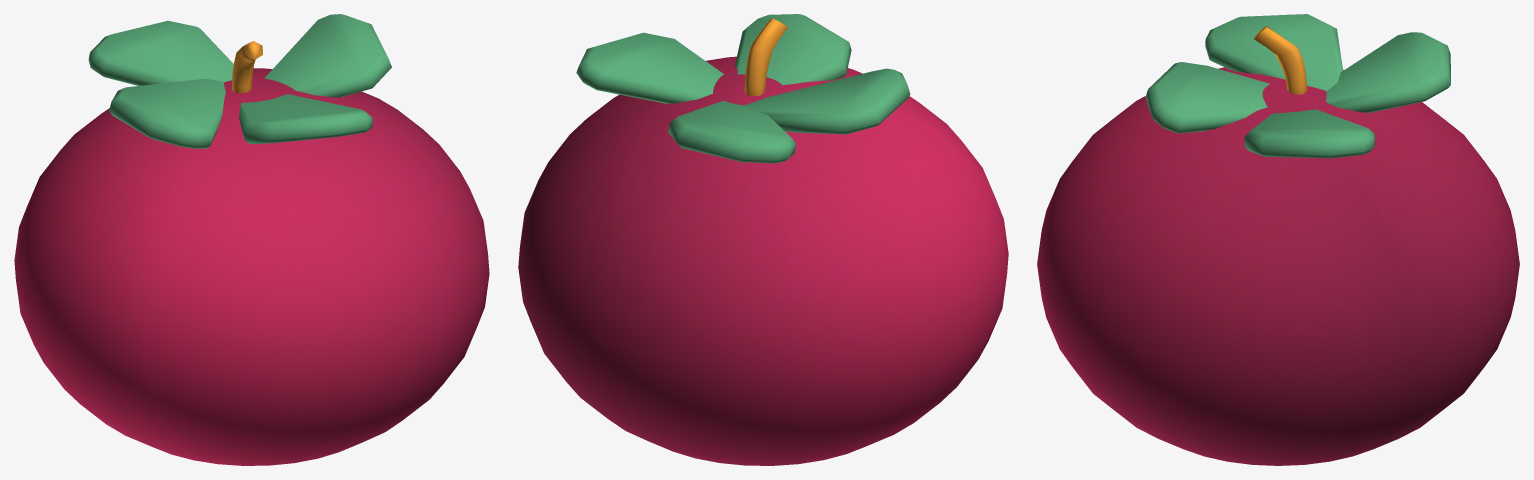
Rendered from Tomato.fbx.
3 renders of one model, left to right at view 1: azimuth 30°, elevation 25°; view 2: azimuth 150°, elevation 25°; view 3: azimuth 270°, elevation 25°, orthographic. The views are drawn at different scales.
Parts seen in each view (by area): view 1: Sphere, Cube, Cylinder; view 2: Sphere, Cube, Cylinder; view 3: Sphere, Cube, Cylinder.
Boxes of the visible parts, x1=… form: Sphere: x1=14, y1=68, x2=489, y2=465; Cube: x1=88, y1=14, x2=391, y2=148; Cylinder: x1=232, y1=41, x2=262, y2=93; Sphere: x1=518, y1=56, x2=1008, y2=465; Cube: x1=576, y1=14, x2=910, y2=163; Cylinder: x1=744, y1=18, x2=787, y2=95; Sphere: x1=1037, y1=67, x2=1519, y2=465; Cube: x1=1145, y1=14, x2=1450, y2=158; Cylinder: x1=1254, y1=26, x2=1307, y2=94.
Bounding box in the file's own units: 66.91 × 62.55 × 66.91.
Materials: 1 (1 with a texture image).
